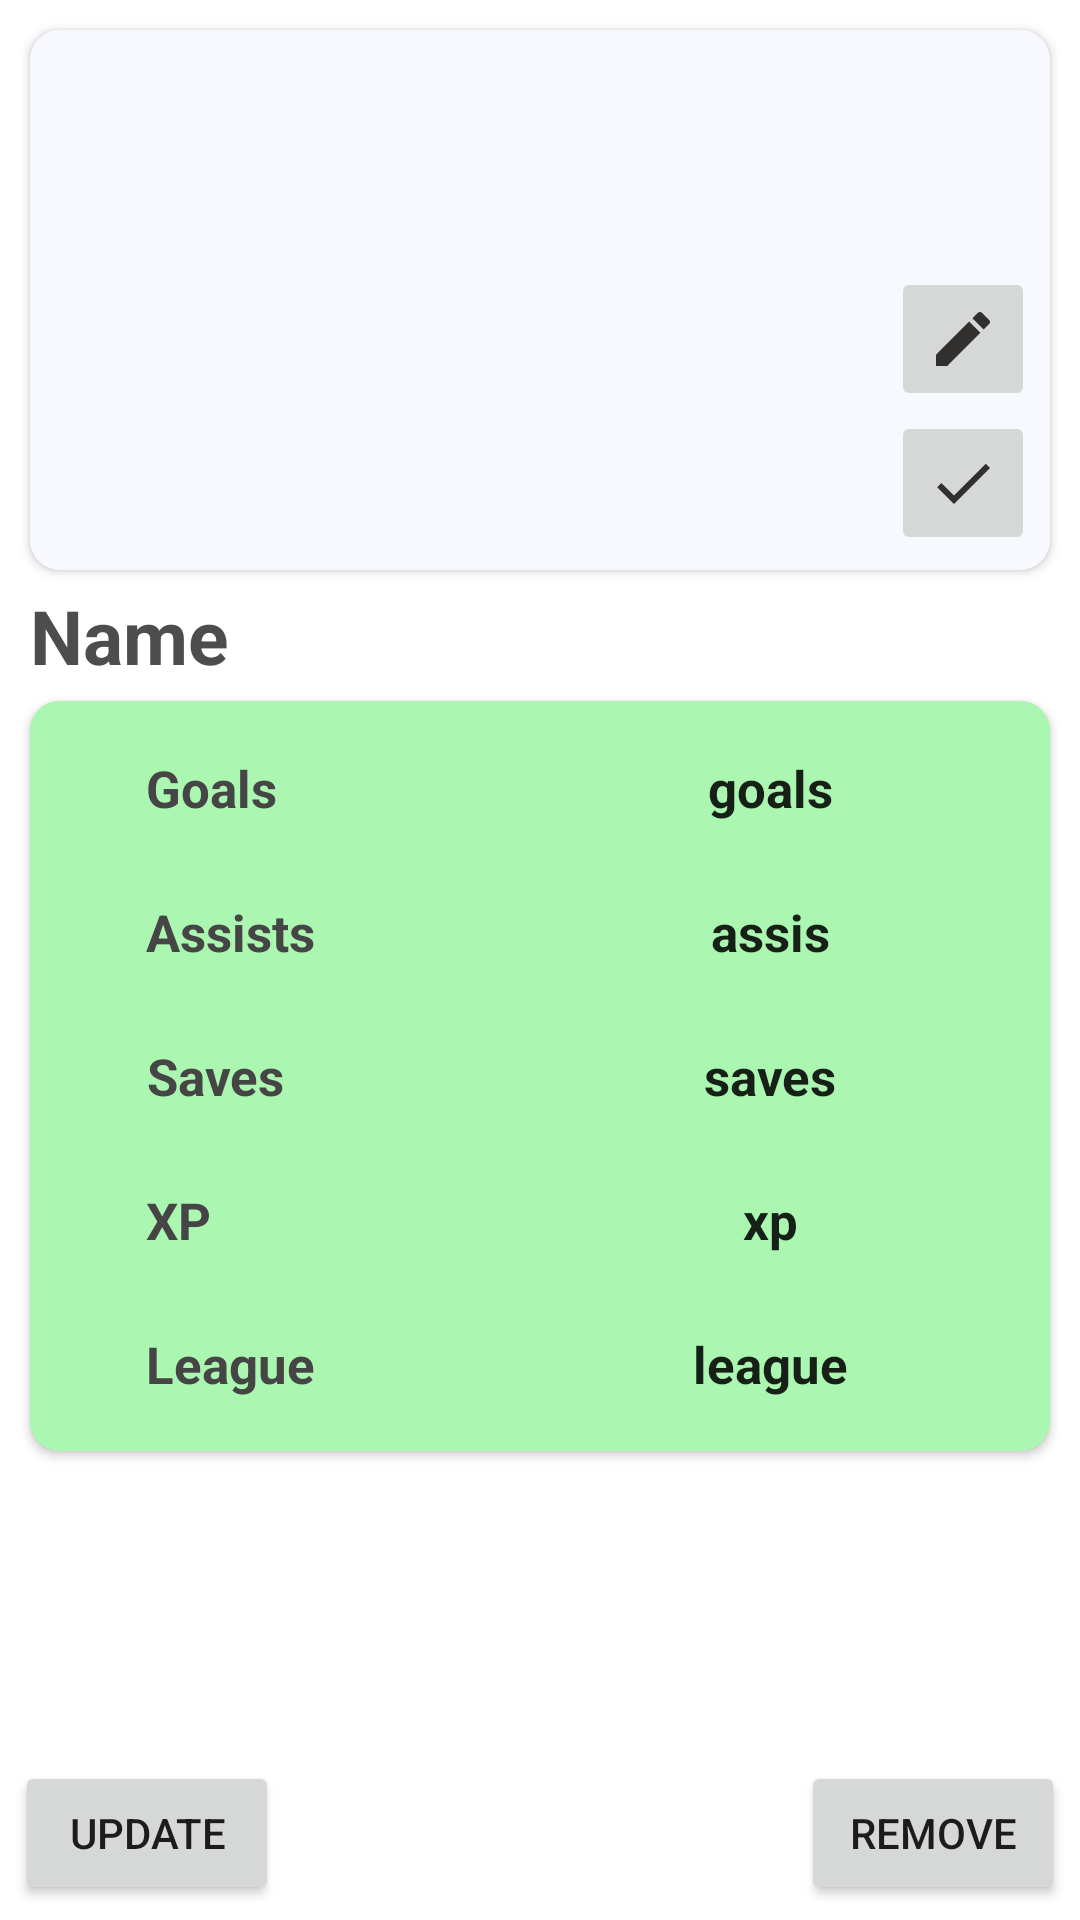

Where icons sit on this 1080w x 1920h app screen, as (left=x1, top=y1, right=x2, bottom=y2):
done: (left=903, top=429, right=1023, bottom=537)
edit: (left=903, top=285, right=1023, bottom=393)
